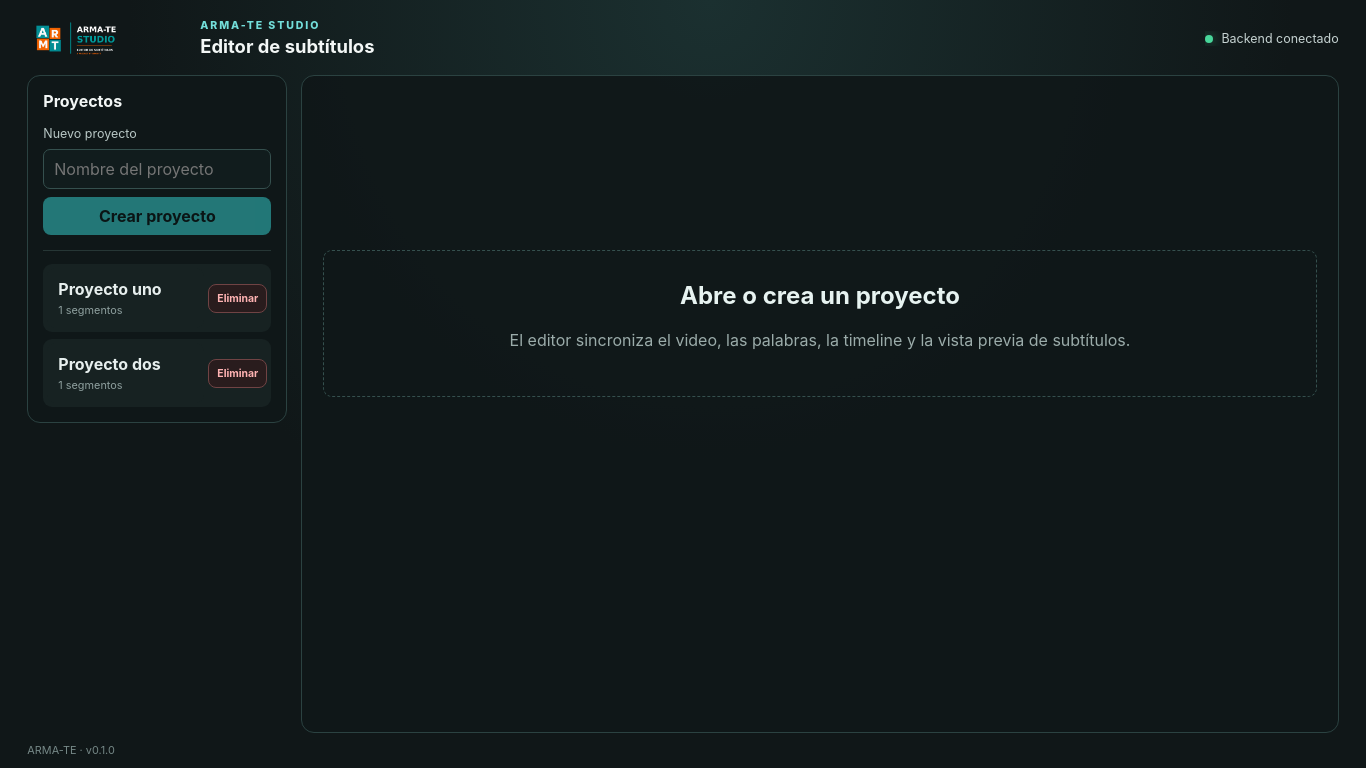
Test: application persistence boundaries › flushes the current project before switching to another project
The image size is (1366, 768).
Expected: the text "Backend conectado" is shown, [1205,30,1339,46]
Step 1. Click the button "Proyecto uno 1 segmentos" → [126, 298], box [47,268,204,328]
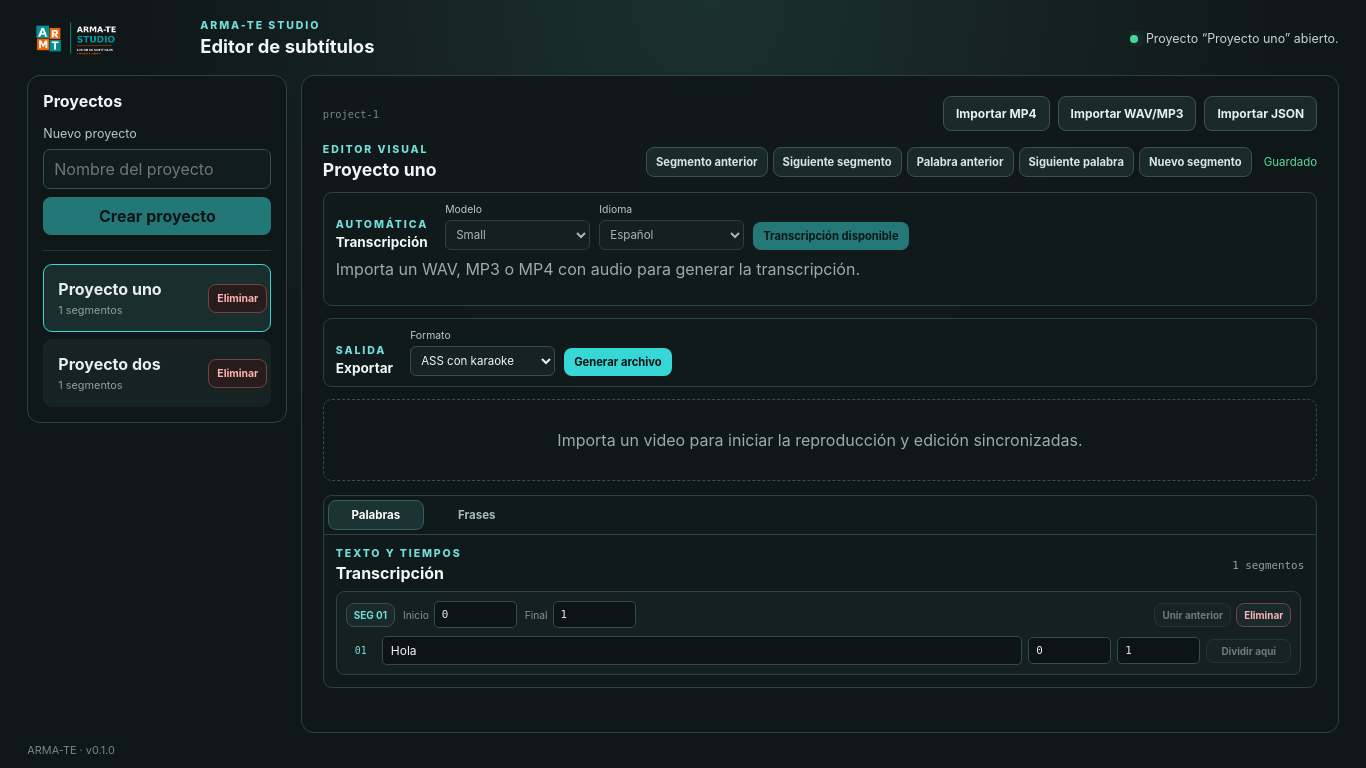
Expected: the field named "Texto palabra 1" is shown
Step 2. Replace the text in the field named "Texto palabra 1" with "Buenos días" → [702, 651], box [382,636,1022,666]
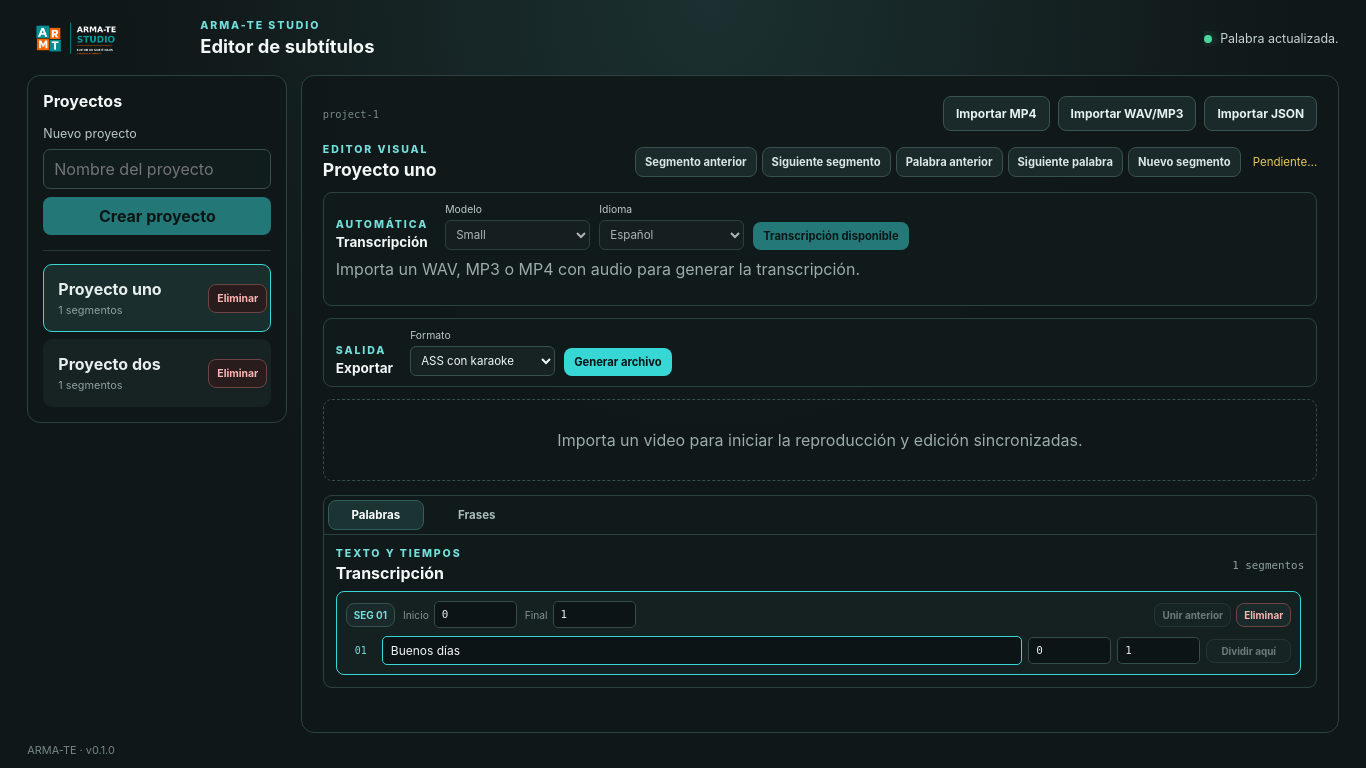
Step 3. Click the button "Proyecto dos 1 segmentos" → [126, 373], box [47,343,204,403]
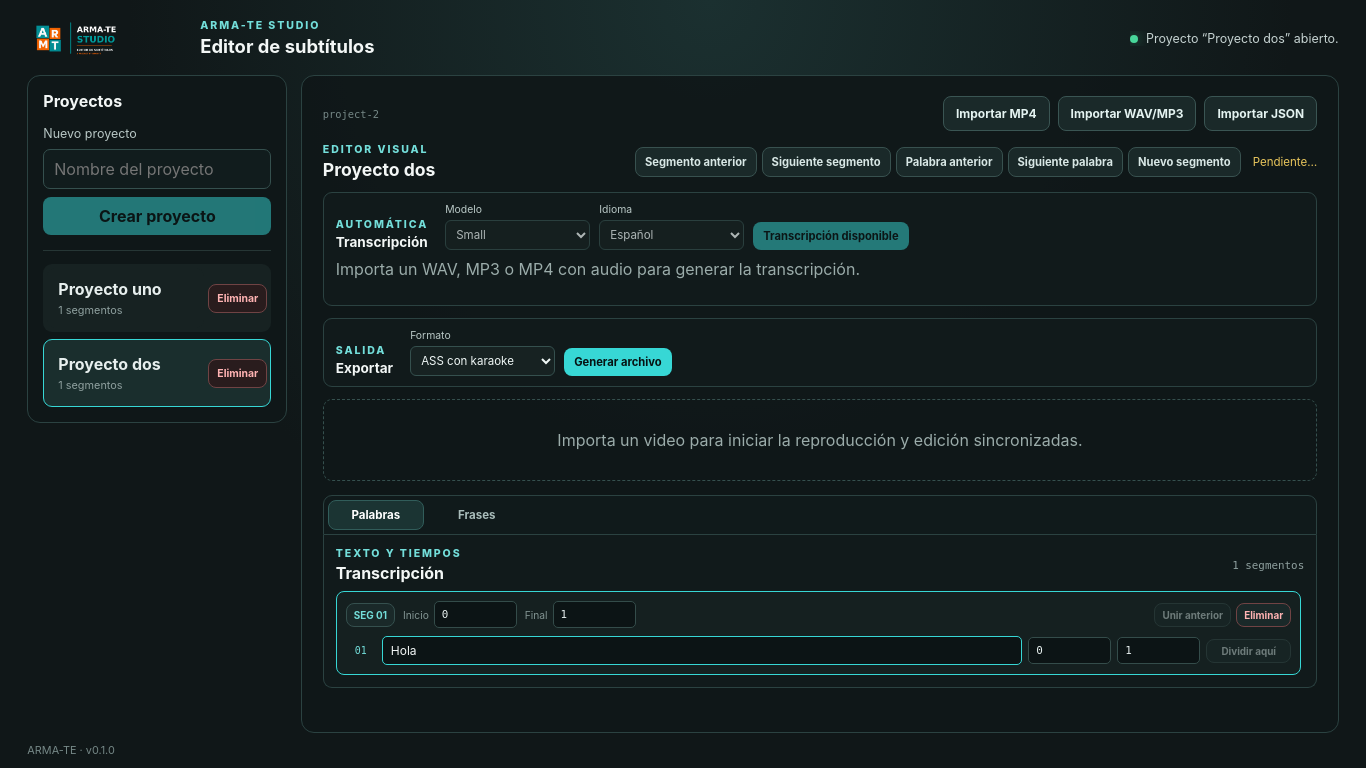
Expected: the heading "Proyecto dos" is shown, [323,160,436,180]
